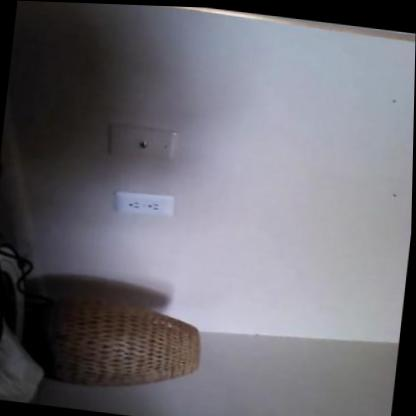OUTLET: (114, 188, 175, 219)
